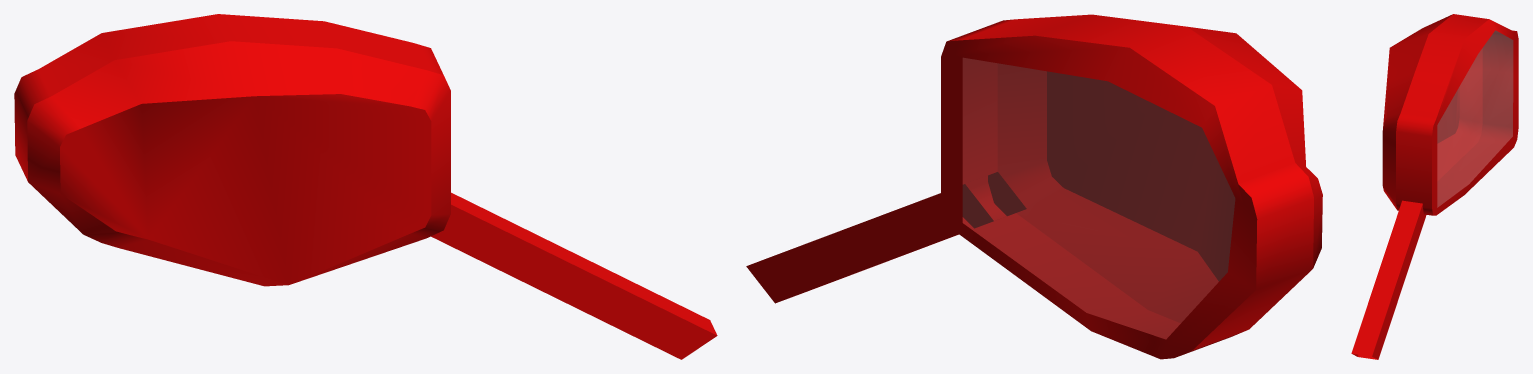
The model's file is car_mirror.fbx.
The picture shows the model from 3 angles, left to right: view 1: azimuth 30°, elevation 25°; view 2: azimuth 150°, elevation 25°; view 3: azimuth 270°, elevation 25°; orthographic projection. The views are drawn at different scales.
Parts seen in each view (by area): view 1: car_mirror; view 2: car_mirror; view 3: car_mirror.
Part boxes in pixels (left/top/right/bottom): car_mirror: left=14, top=14, right=717, bottom=359; car_mirror: left=746, top=14, right=1322, bottom=359; car_mirror: left=1351, top=14, right=1518, bottom=359.
Size of the model in its own units: 28.64 by 17.19 by 12.22.
